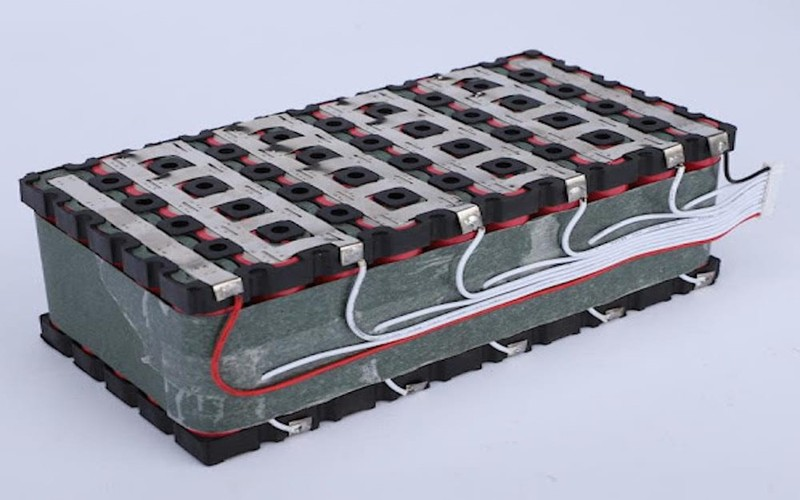Battery: (10, 37, 771, 477)
